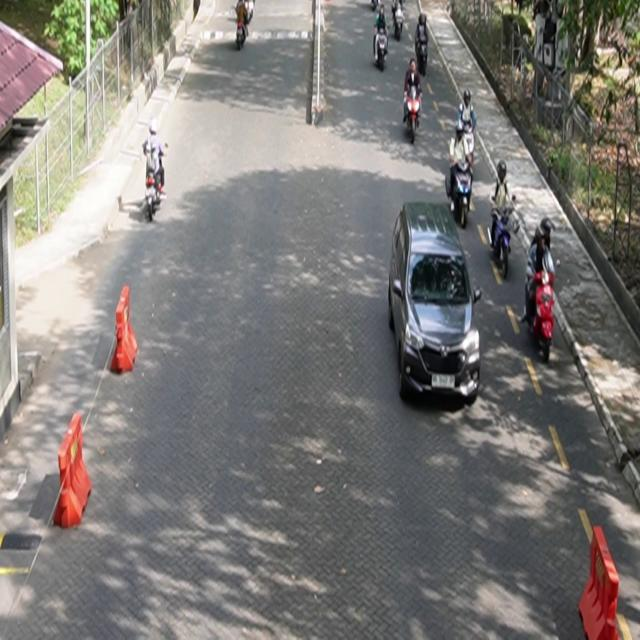car: (388, 201, 483, 405)
